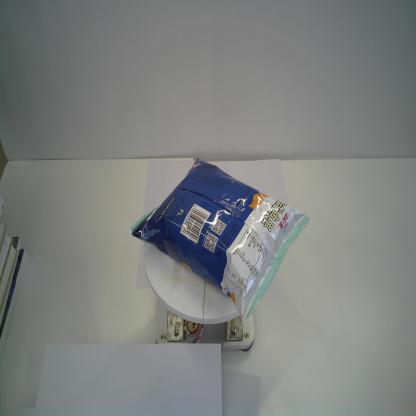Puffed Food: (129, 156, 310, 322)
